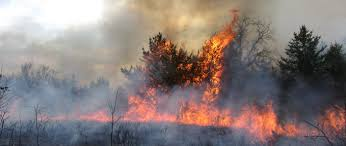fire: (122, 93, 281, 130), (198, 28, 232, 105)
smoke: (21, 1, 200, 55)
